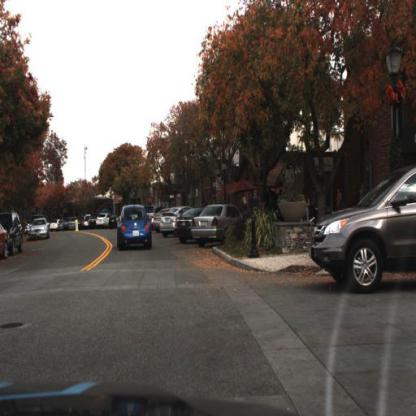car: (309, 161, 416, 283), (193, 203, 246, 250), (116, 201, 154, 252), (160, 201, 189, 238), (1, 212, 25, 256), (176, 205, 202, 237), (30, 217, 51, 240), (1, 224, 9, 261), (97, 212, 110, 229), (51, 218, 61, 231)
pedestrian: (242, 193, 251, 227), (360, 181, 368, 210), (336, 186, 344, 214)
